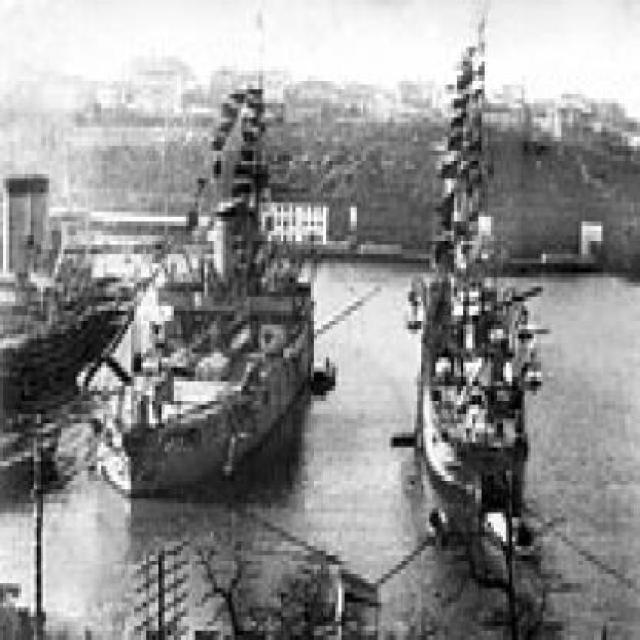warship2: (83, 62, 343, 537), (410, 34, 556, 523)
